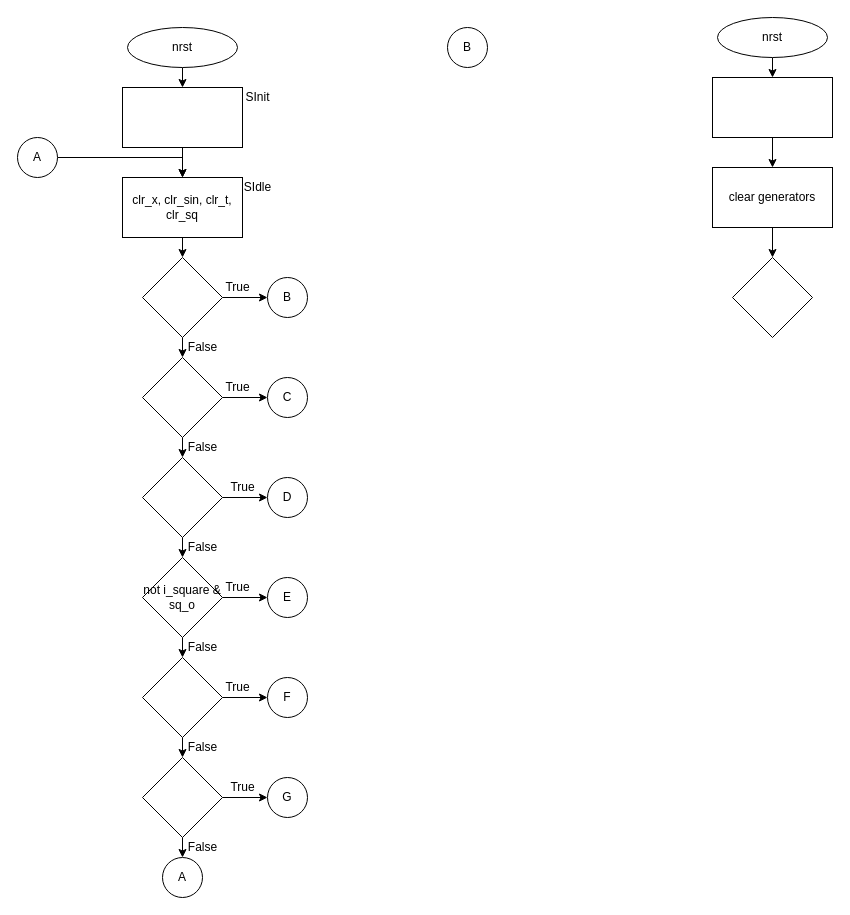
This 850x915 diagram has some shape labels left out. Each missing label, with the centre of its shape:
"clear all" goes at (x=772, y=107).
"clr_x, clr_sin, clr_t, clr_sq, sq_i_r, sin_i_r, tri_i_r" goes at (x=182, y=117).
"i_sine & not sin_o" goes at (x=182, y=397).
"i_square & not sq_o" goes at (x=182, y=297).
"i_triangle & not tri_o" goes at (x=182, y=497).
"not i_sine & sin_o" goes at (x=182, y=697).
"not i_triangle & tri_o" goes at (x=182, y=797).
